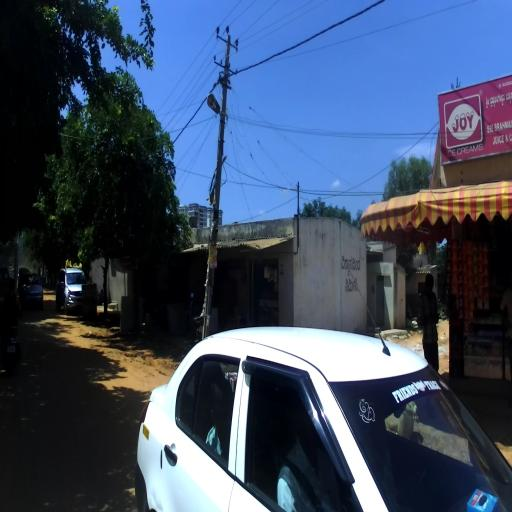street_light_0: (206, 94, 226, 162)
